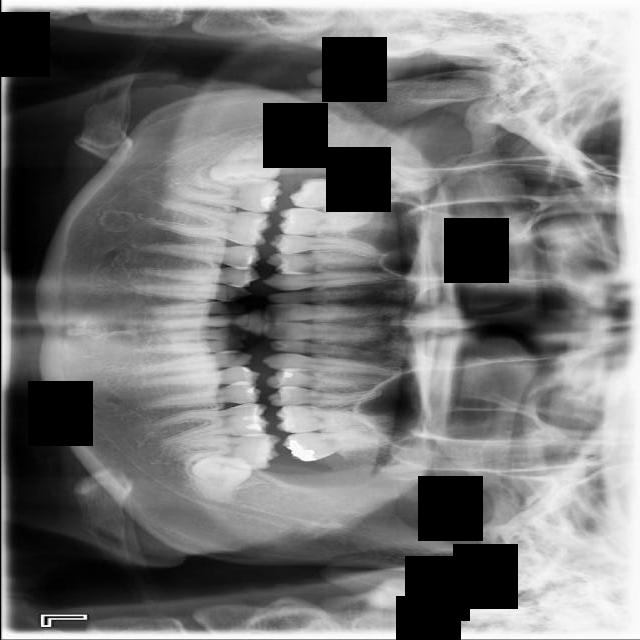3M ESPE Implant: (343, 163, 440, 197)
52: (232, 175, 285, 215), (219, 402, 271, 439), (281, 429, 337, 463), (265, 367, 312, 390), (220, 380, 262, 405), (222, 245, 260, 270), (218, 365, 260, 386)
73: (50, 616, 60, 622)
BioHorizons Implant: (275, 404, 394, 436)
BioLife Implant: (281, 426, 413, 463)
Biomet 3i Implant: (189, 453, 253, 506)
Blue Sky Bio Implant: (167, 433, 282, 473)
Caries: (287, 172, 393, 224)
Implant: (174, 168, 285, 216)
Keystone Dental Implant: (207, 138, 281, 186)
